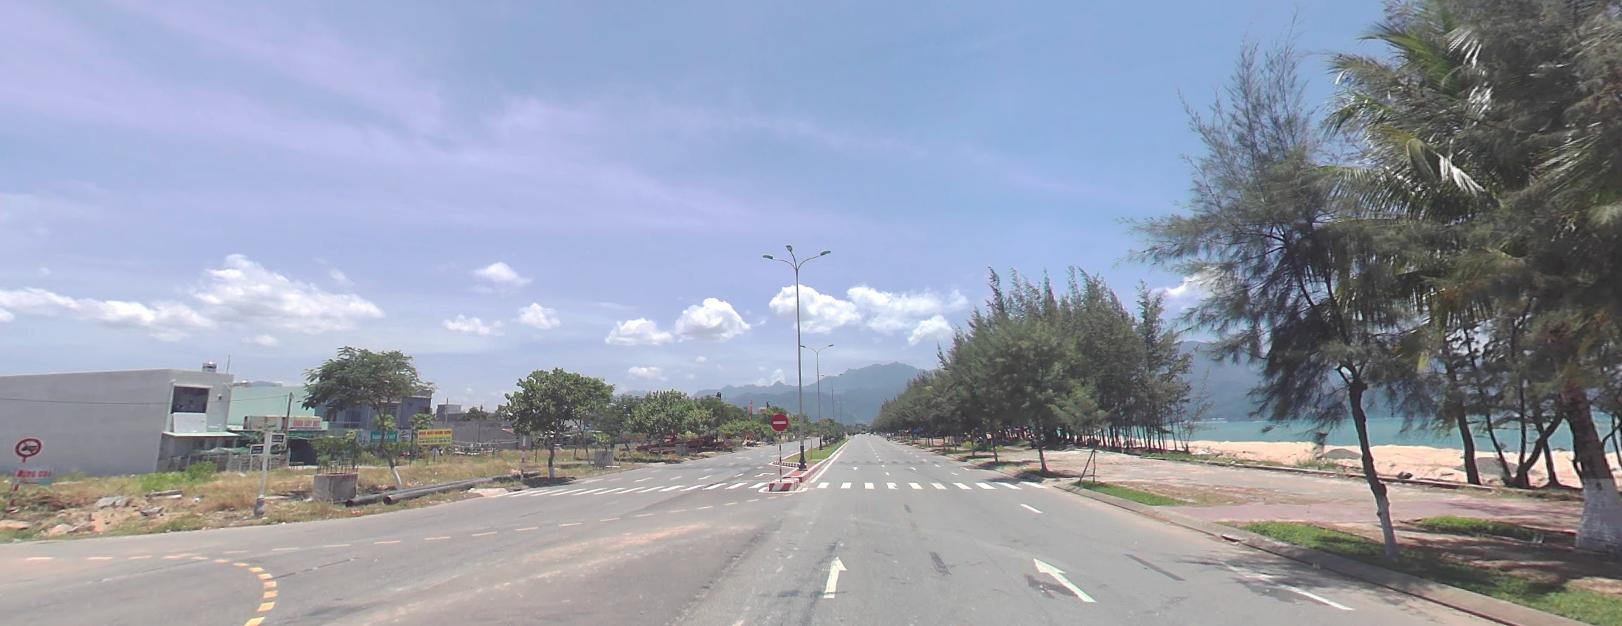Cam con lai: (14, 436, 42, 456)
Cam nguoc chieu: (770, 412, 787, 430)
